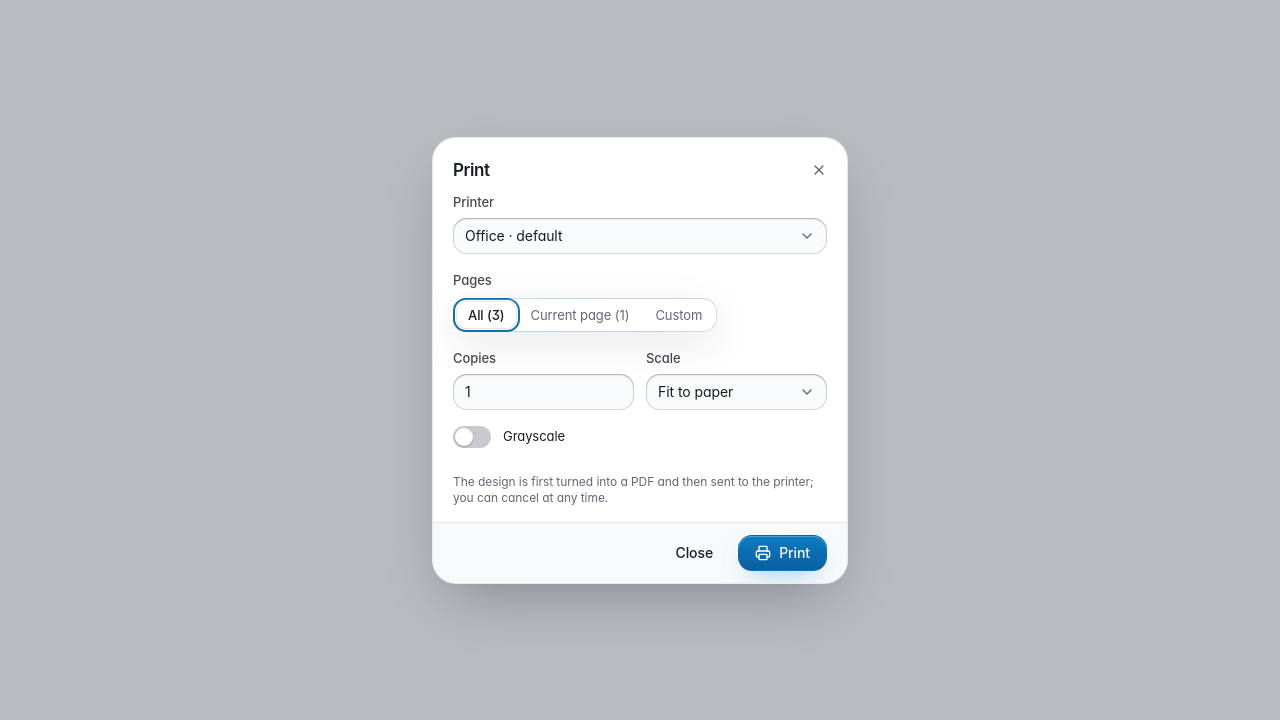
it: StudioPrintDialog › blocks printing while the custom range is wrong and says why
Expected: the dropdown named "Printer" is shown, [453,218,827,254]
Click the radio button labelled "Custom" at (679, 314), box [643,300,714,328]
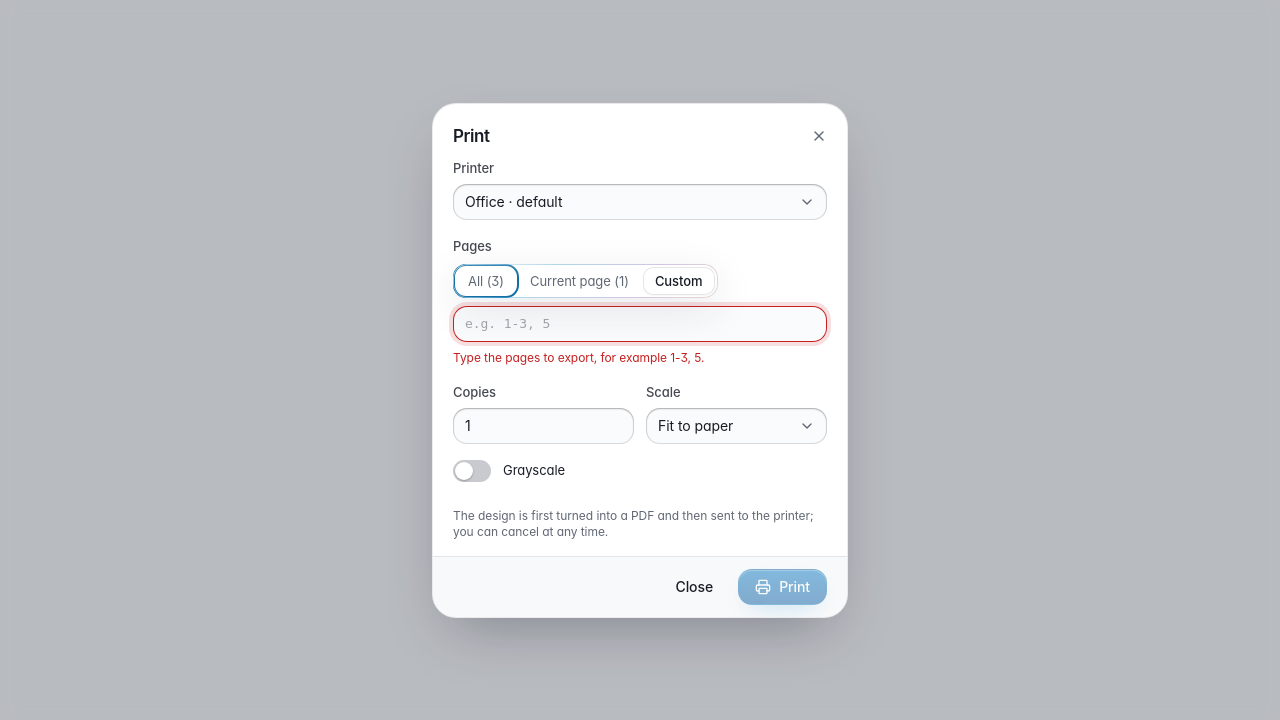
Type "7" into the field with test id "studio-export-range" at (640, 324), box [453,306,827,342]
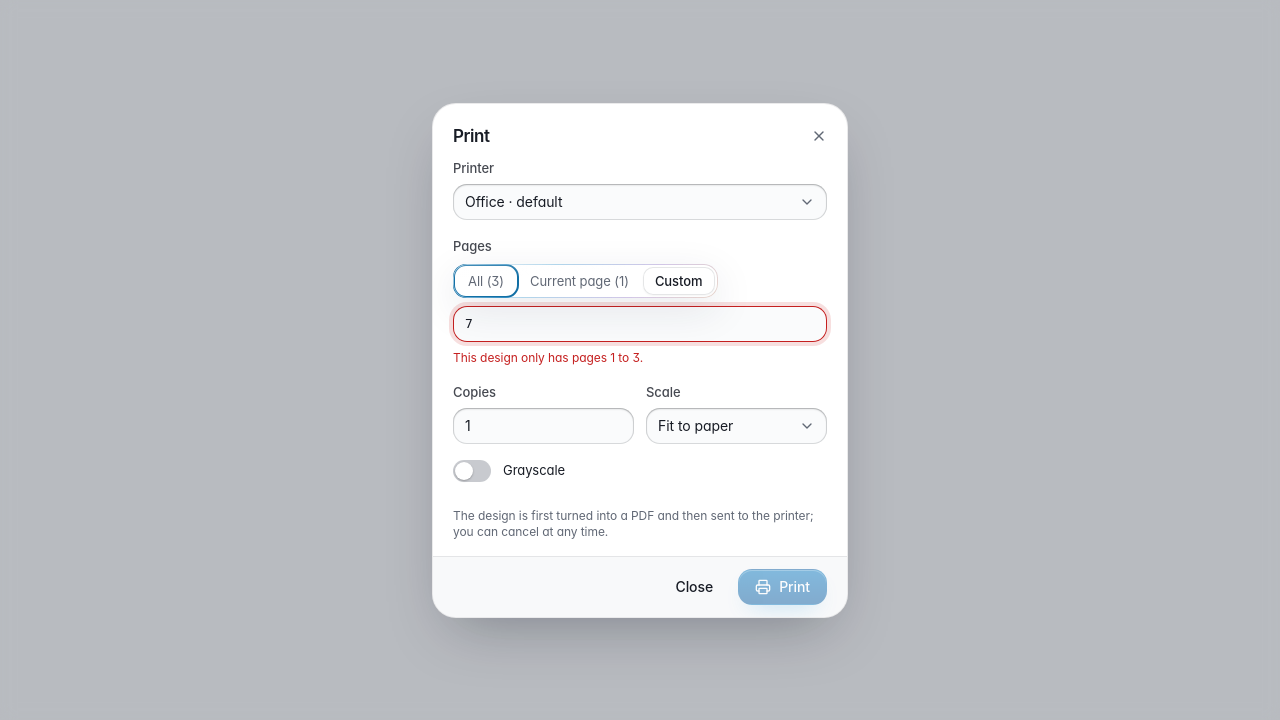
Expected: the button with test id "studio-print-run" is disabled, [738,568,827,604]
Expected: the text "This design only has pages 1 to 3." is shown, [453,350,643,364]
